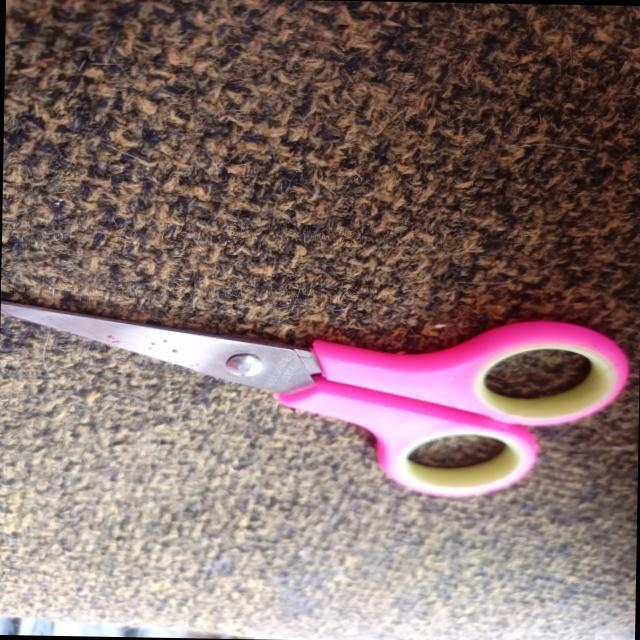scissors: (0, 282, 640, 526)
